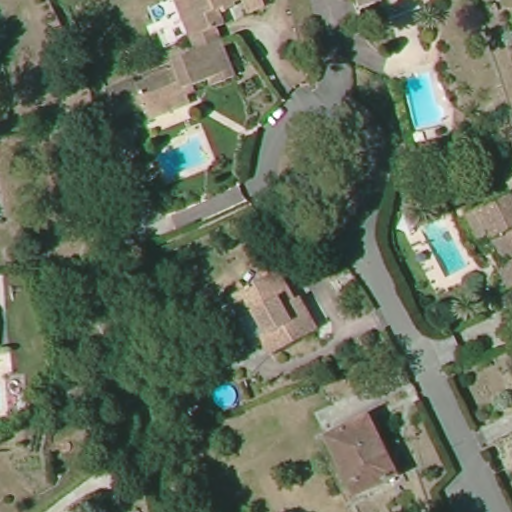pool: (136, 134, 216, 184), (416, 216, 476, 278), (398, 73, 450, 134), (206, 382, 245, 411)
